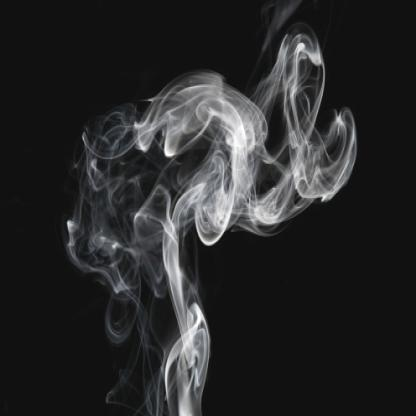smoke: (65, 34, 355, 244), (128, 241, 210, 415)
